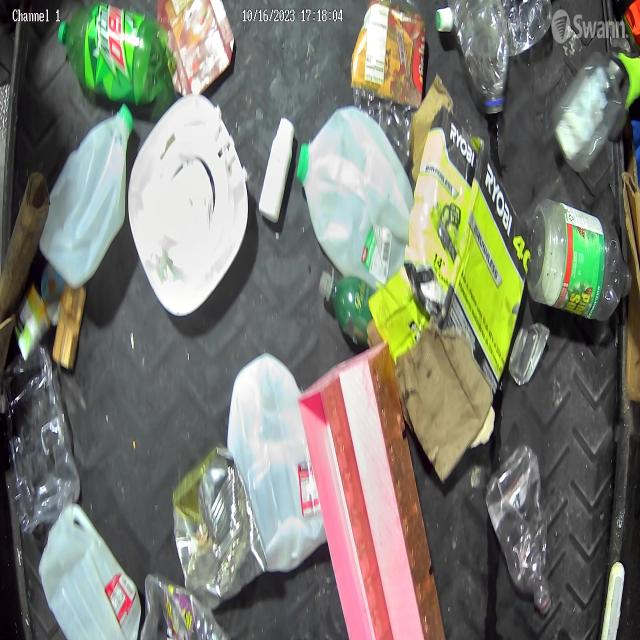can: (345, 0, 431, 111)
milk_jug: (226, 354, 327, 574), (293, 113, 416, 290), (42, 102, 132, 288), (37, 505, 142, 640)
plastic_bottle: (57, 0, 177, 117), (486, 449, 558, 625), (454, 0, 511, 116)
